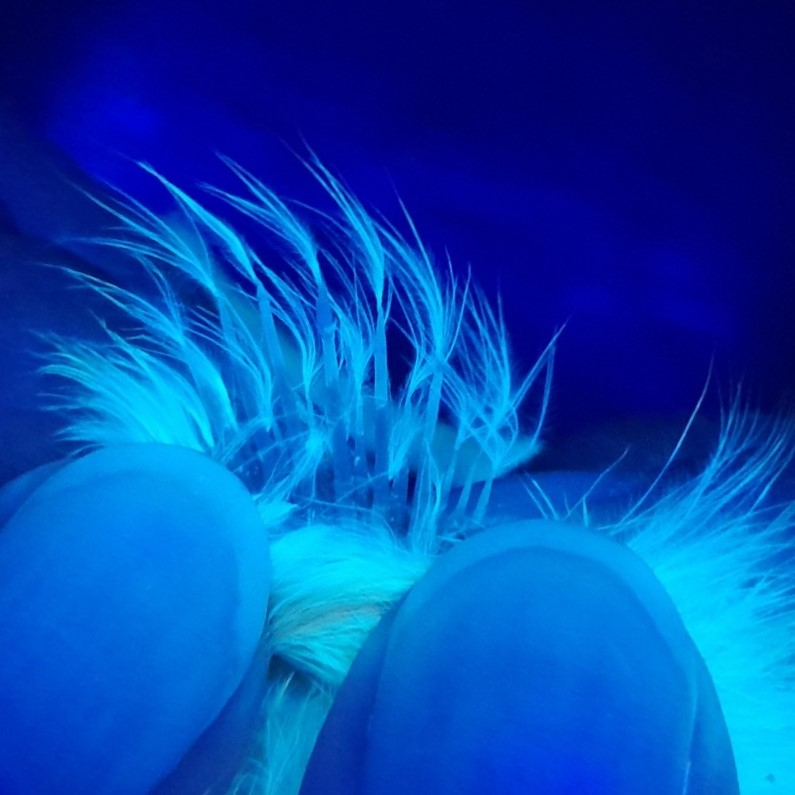male: (159, 221, 514, 551)
